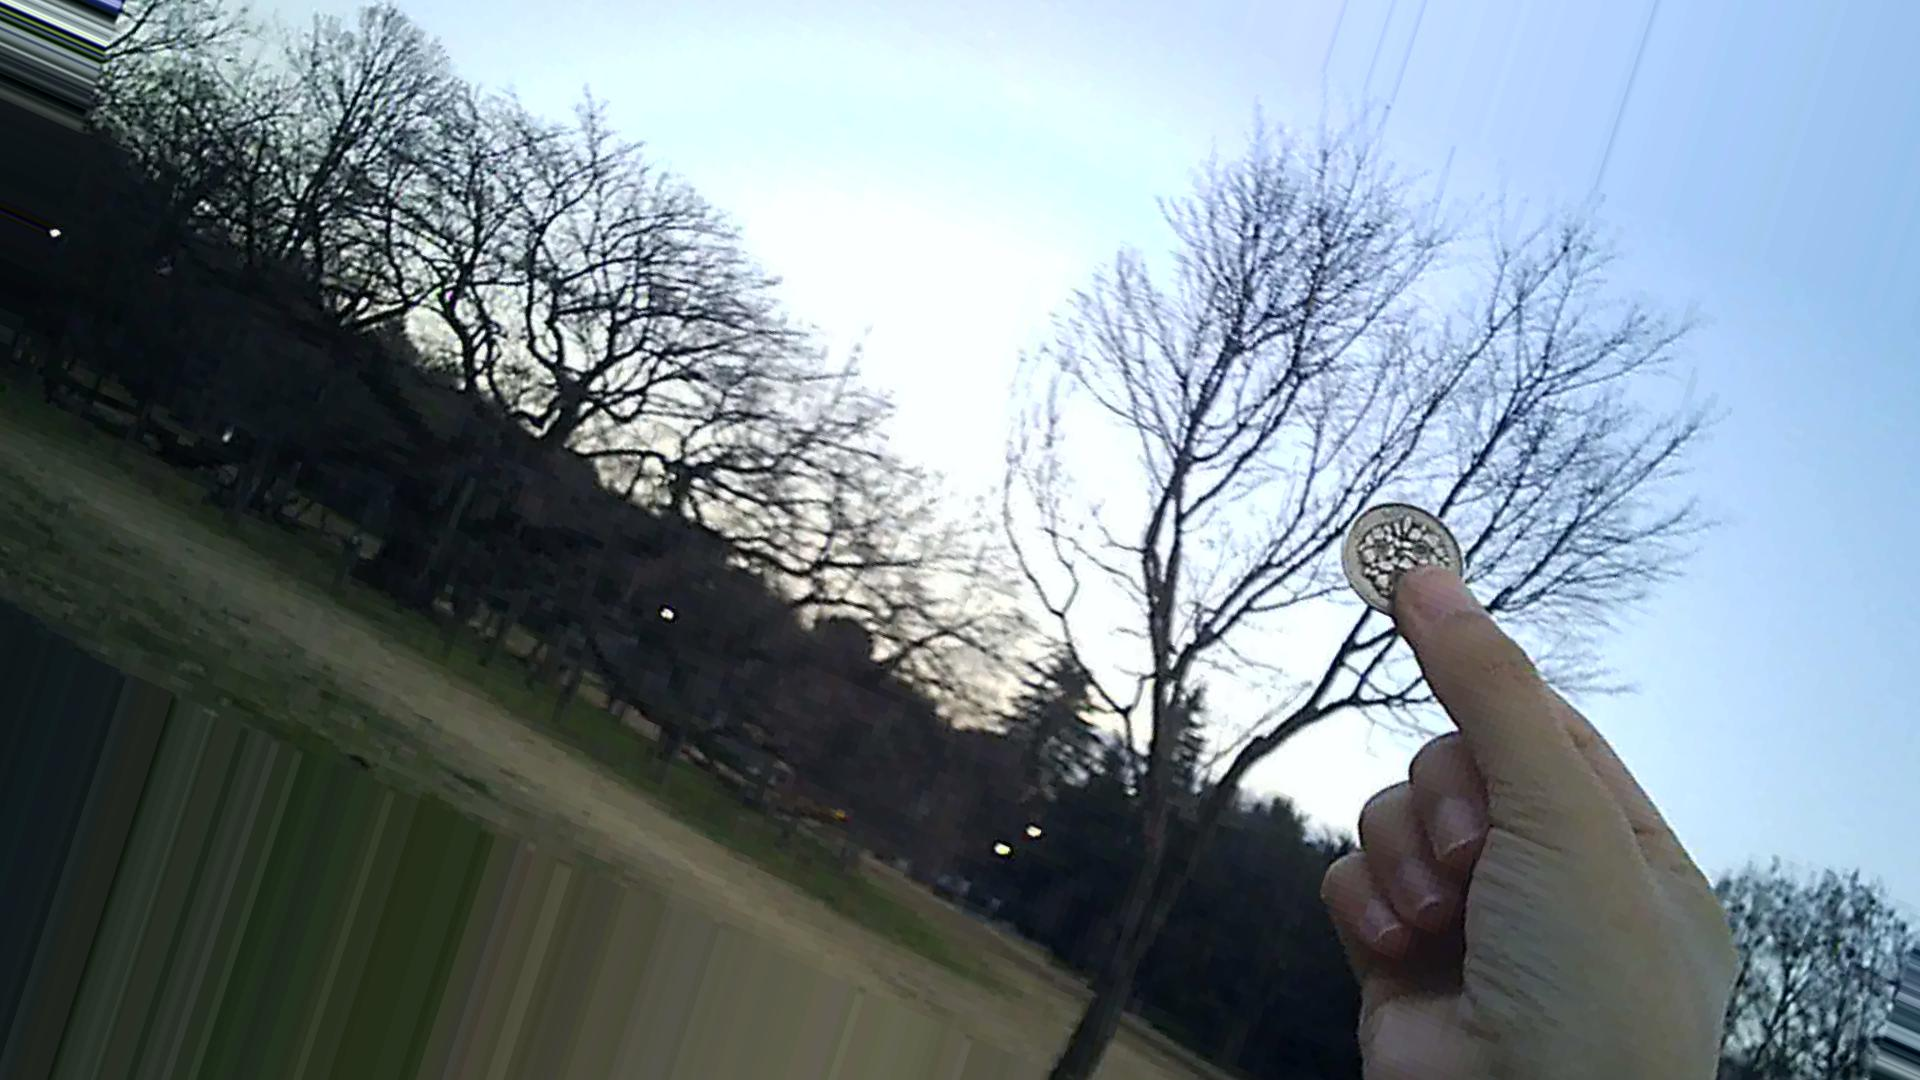100 Yen: (1342, 489, 1476, 609)
